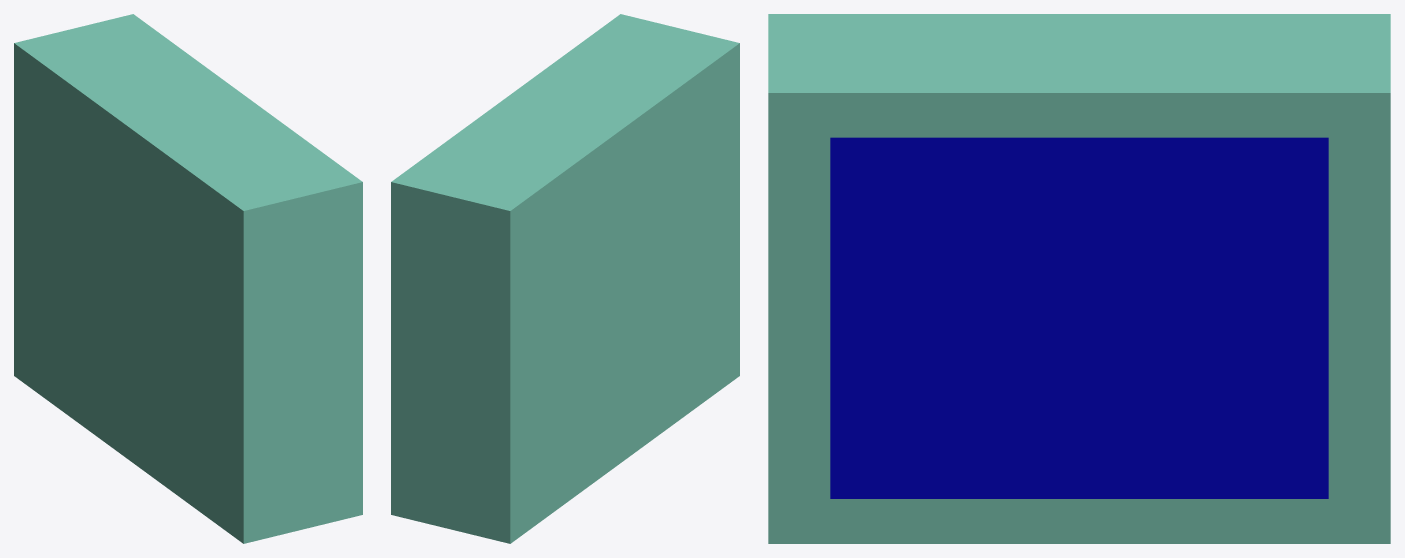
The model's file is monitor.obj.
3 renders of one model, left to right at view 1: azimuth 30°, elevation 25°; view 2: azimuth 150°, elevation 25°; view 3: azimuth 270°, elevation 25°, orthographic. The views are drawn at different scales.
Parts seen in each view (by area): view 1: Cube; view 2: Cube; view 3: Cube.
Boxes of the visible parts, x1,y1,x2,y2 form: Cube: (14,14,362,543); Cube: (391,14,739,543); Cube: (768,14,1390,543).
Bounding box in the file's own units: 0.6 × 1.6 × 2.
